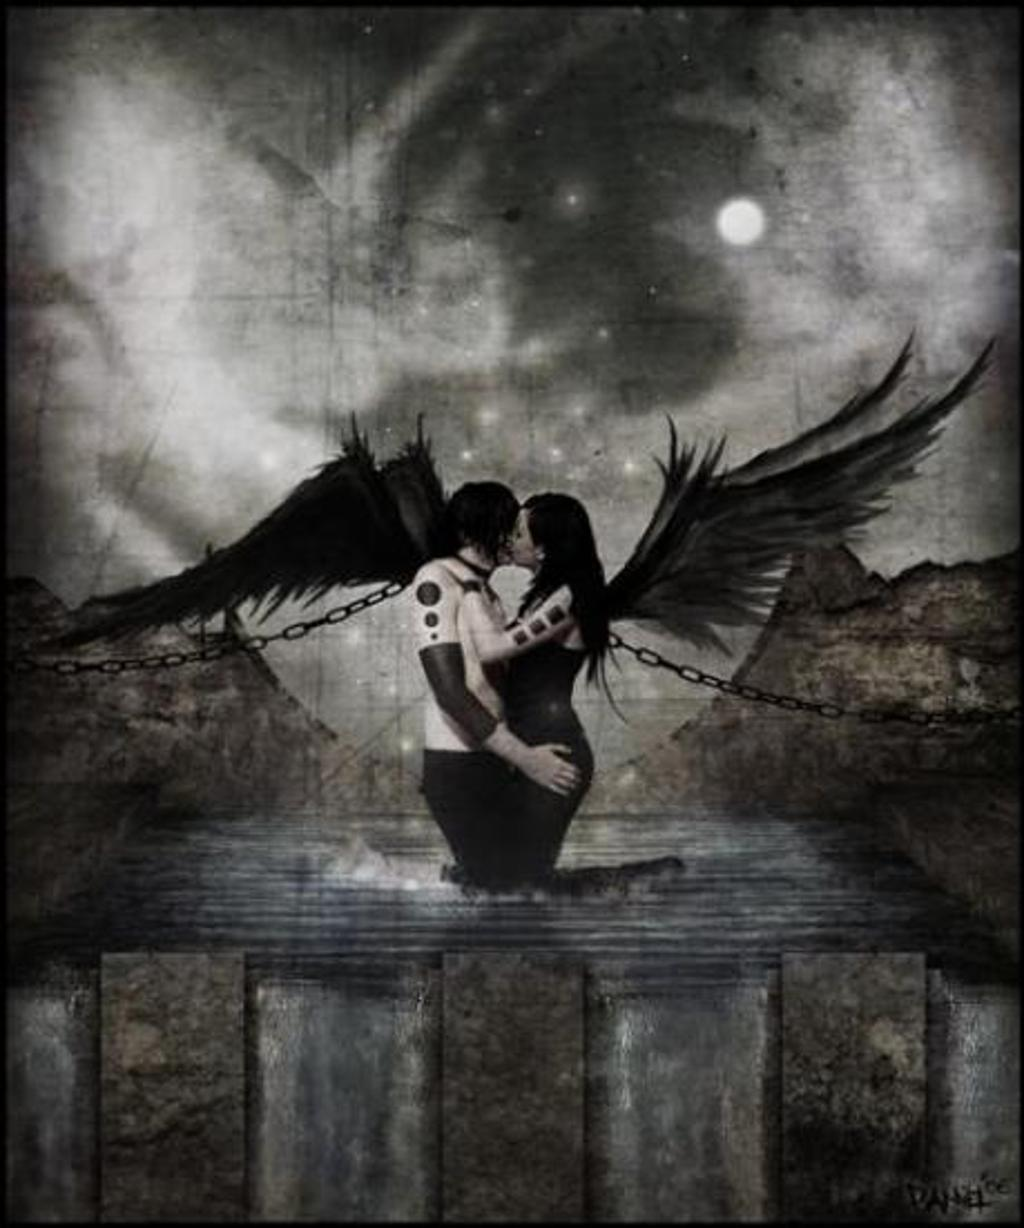face: (506, 508, 535, 563)
